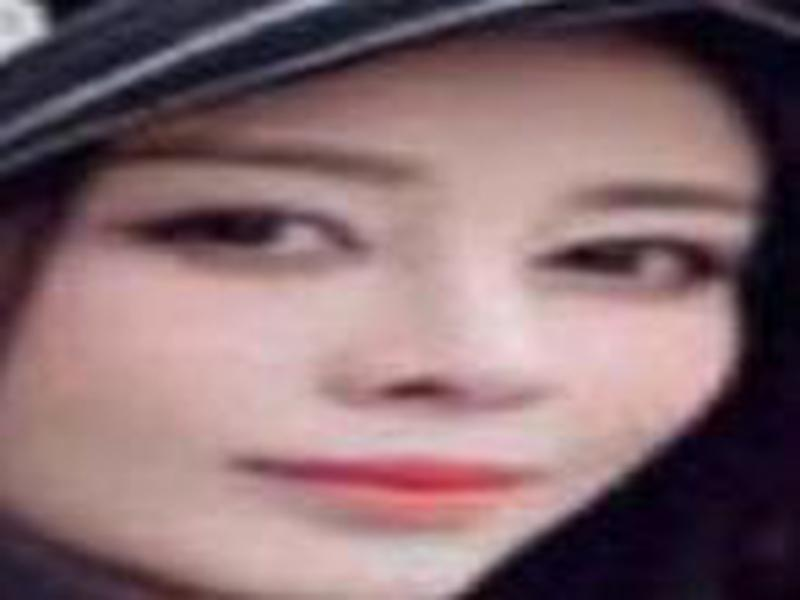without_mask: (1, 38, 763, 597)
